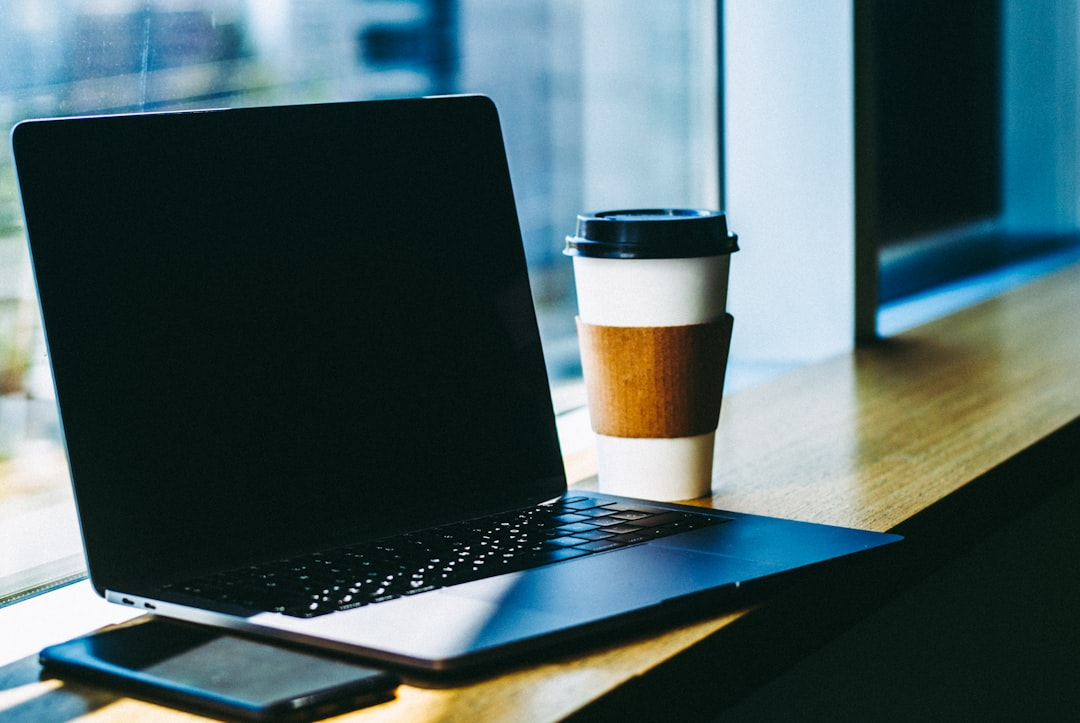phone: (35, 621, 400, 722)
